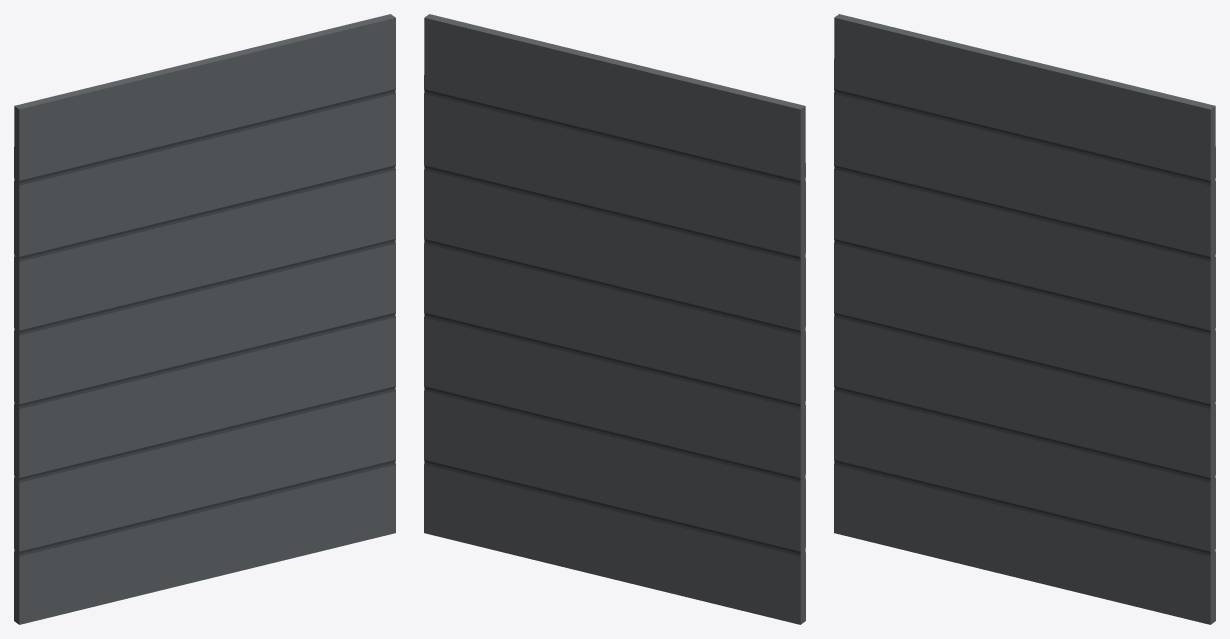
The model's file is SM_Buildings_Warehouse_02_Gate.fbx.
3 renders of one model, left to right at view 1: azimuth 30°, elevation 25°; view 2: azimuth 150°, elevation 25°; view 3: azimuth 330°, elevation 25°, orthographic.
Parts seen in each view (by area): view 1: SM_Buildings_Warehouse_02_Gate; view 2: SM_Buildings_Warehouse_02_Gate; view 3: SM_Buildings_Warehouse_02_Gate.
Boxes of the visible parts, box(x1,y1,x2,y2) form: SM_Buildings_Warehouse_02_Gate: box(14, 14, 395, 624); SM_Buildings_Warehouse_02_Gate: box(424, 14, 805, 624); SM_Buildings_Warehouse_02_Gate: box(834, 14, 1215, 624).
Bounding box in the file's own units: 3.5 × 4.58 × 0.0857.
